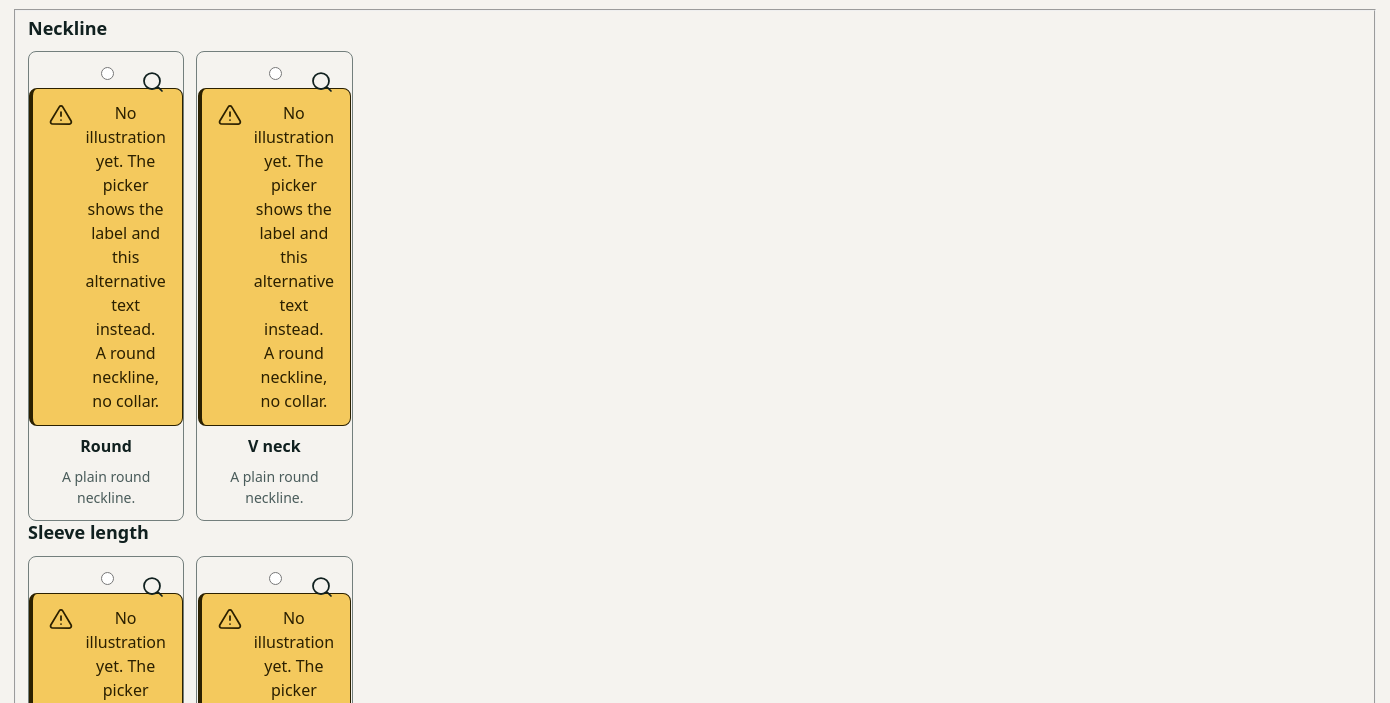
Test case: folds a single-option `requires` auto-selection back in once the server settles it, and says so
The width and height of the screenshot is (1390, 703).
Step 1. Click the radio button with aria-label "Round" → (107, 74), box [101, 67, 114, 80]
(page scrolled)
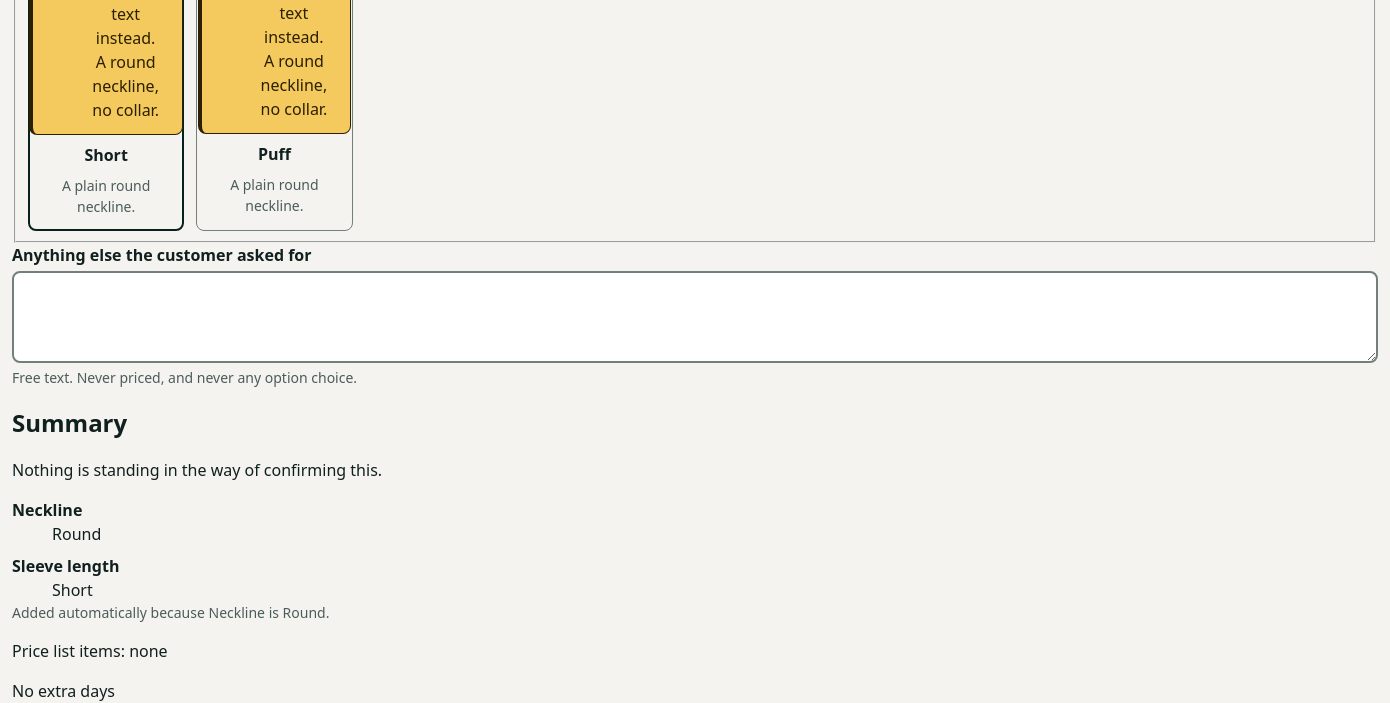
Now the text "Short" below "Summary" is shown, box [52, 579, 93, 601]
Now the text "Added automatically because Neckline is Round." is shown, box [12, 603, 330, 622]
